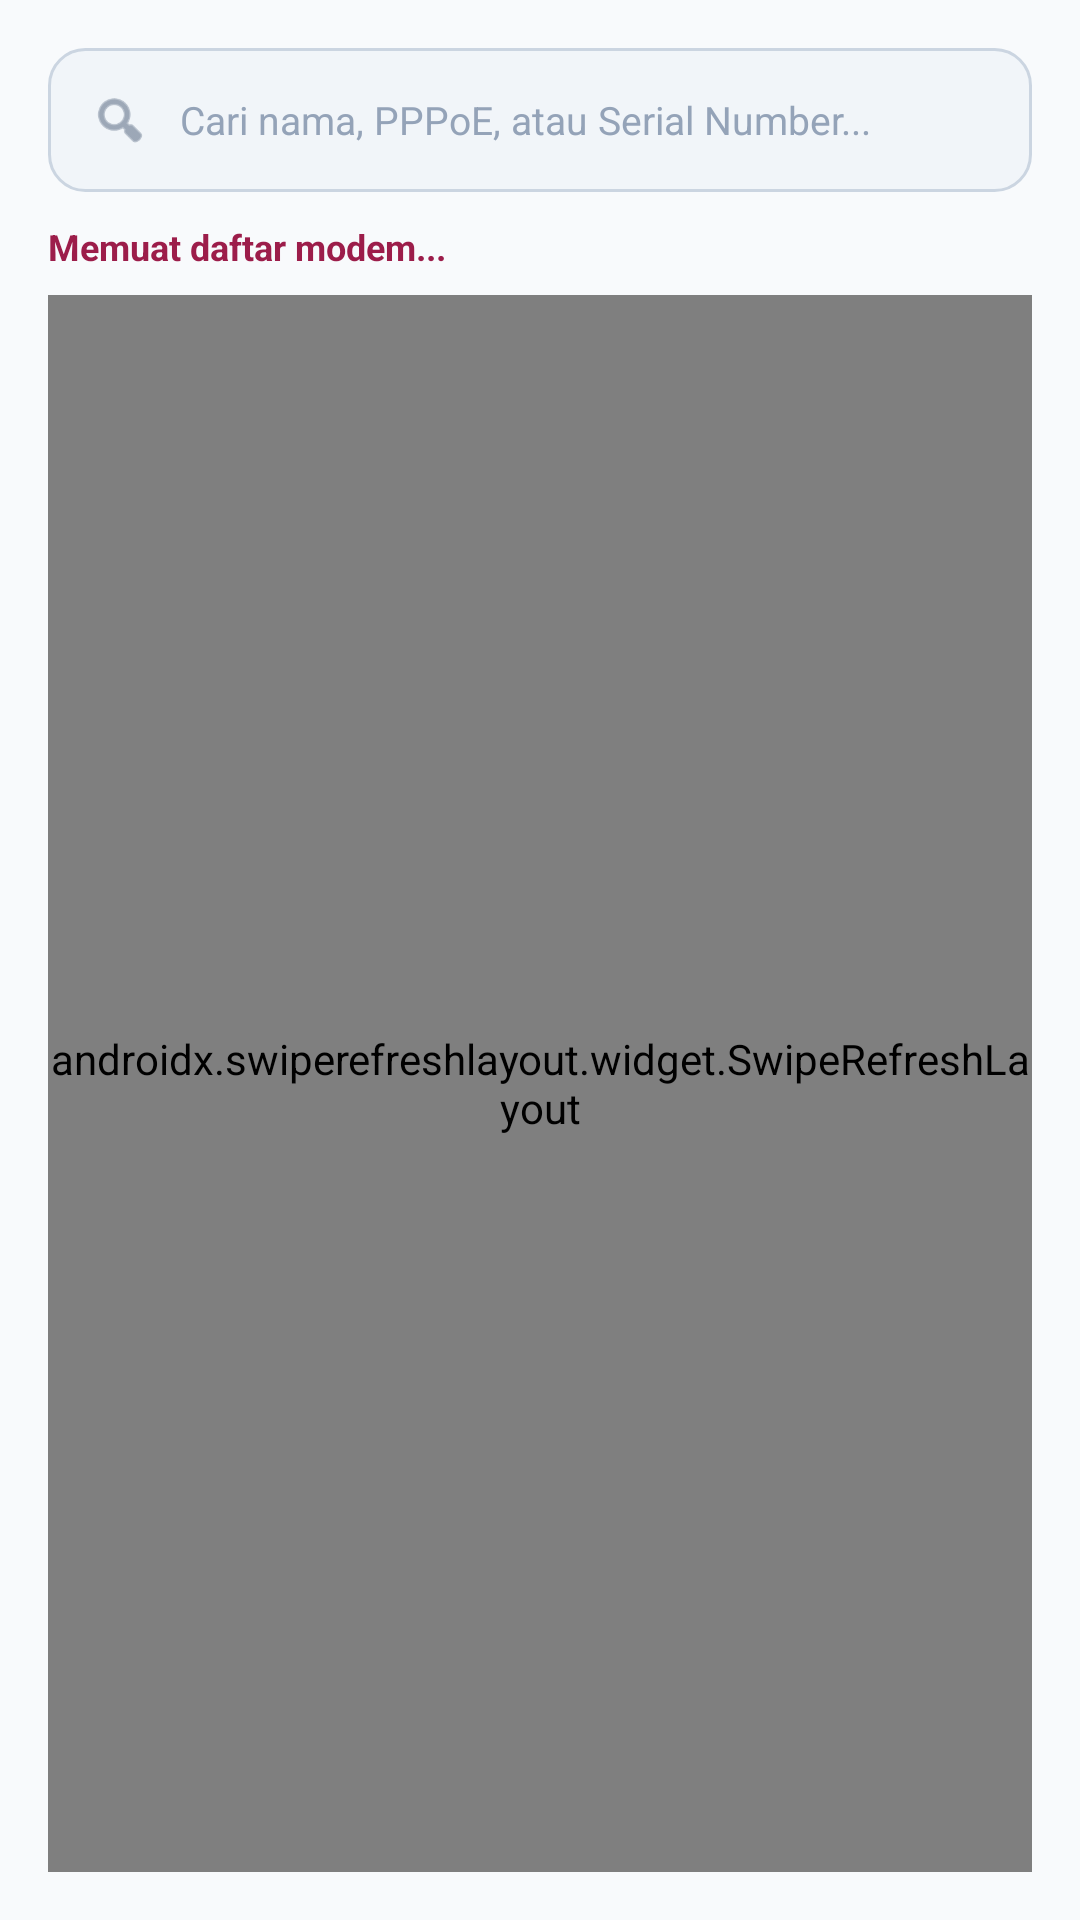

Icons on this 1080x1920 Android screen, each with its box as BBox(x1, y1, x2, y2):
search: BBox(98, 98, 142, 142)
